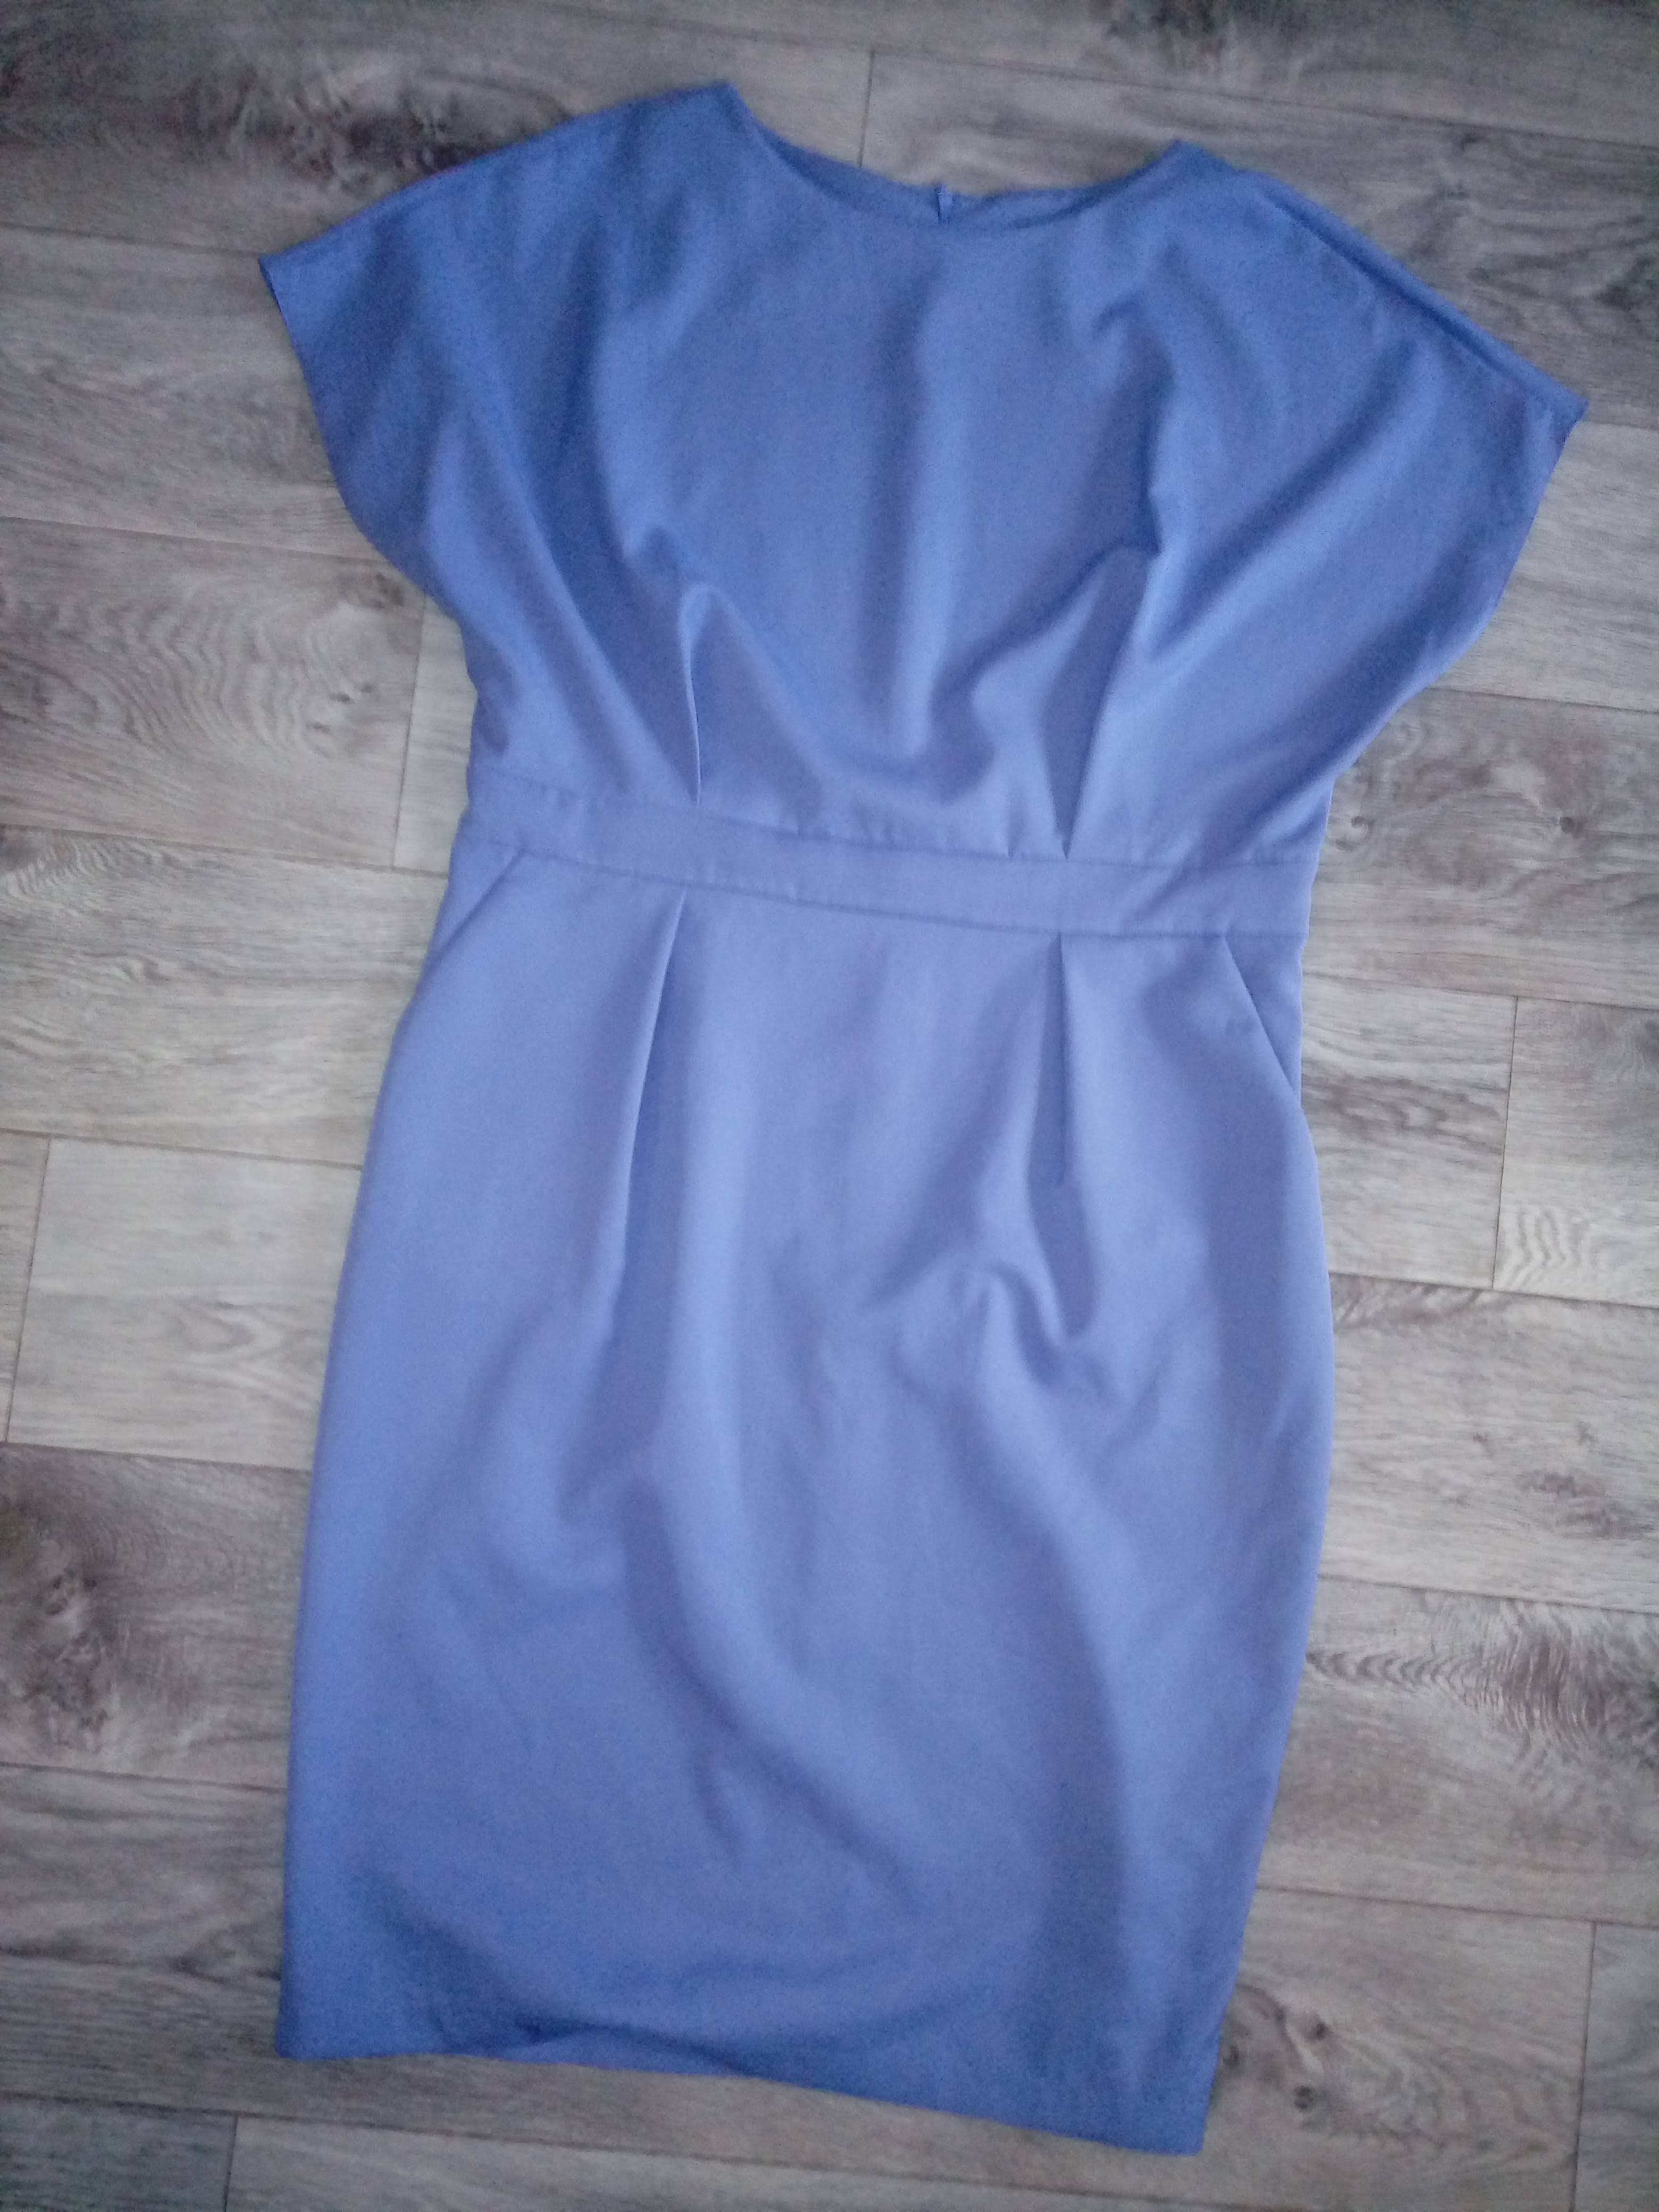clothes: (223, 66, 1534, 2149)
